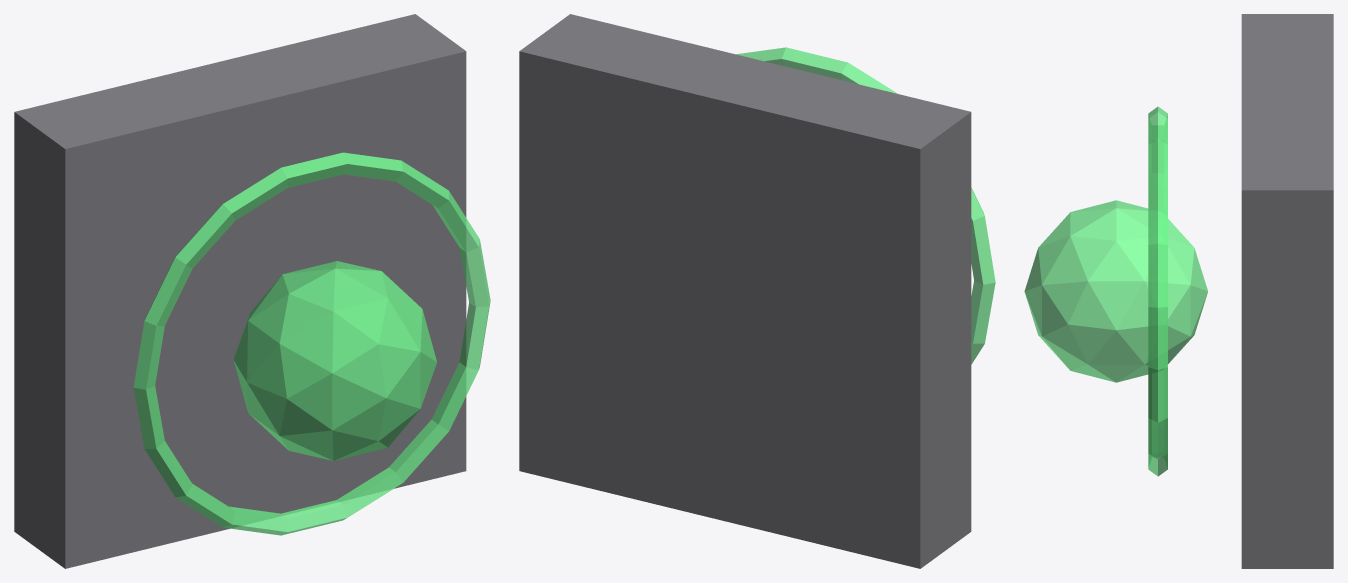
Rendered from bridge_power_relay.glb.
The picture shows the model from 3 angles, left to right: view 1: azimuth 30°, elevation 25°; view 2: azimuth 150°, elevation 25°; view 3: azimuth 270°, elevation 25°; orthographic projection. The views are drawn at different scales.
Visible parts, largest first — view 1: puzzle_base, puzzle_core, rune_ring; view 2: puzzle_base, rune_ring; view 3: puzzle_base, puzzle_core, rune_ring.
Boxes of the visible parts, <box> form: puzzle_base: <box>14,14,466,568</box>; puzzle_core: <box>233,261,436,460</box>; rune_ring: <box>133,152,490,535</box>; puzzle_base: <box>519,14,971,568</box>; rune_ring: <box>736,47,995,364</box>; puzzle_base: <box>1241,14,1333,568</box>; puzzle_core: <box>1024,200,1207,382</box>; rune_ring: <box>1148,106,1167,476</box>.
Bounding box in the file's own units: 1 × 1 × 0.74.
